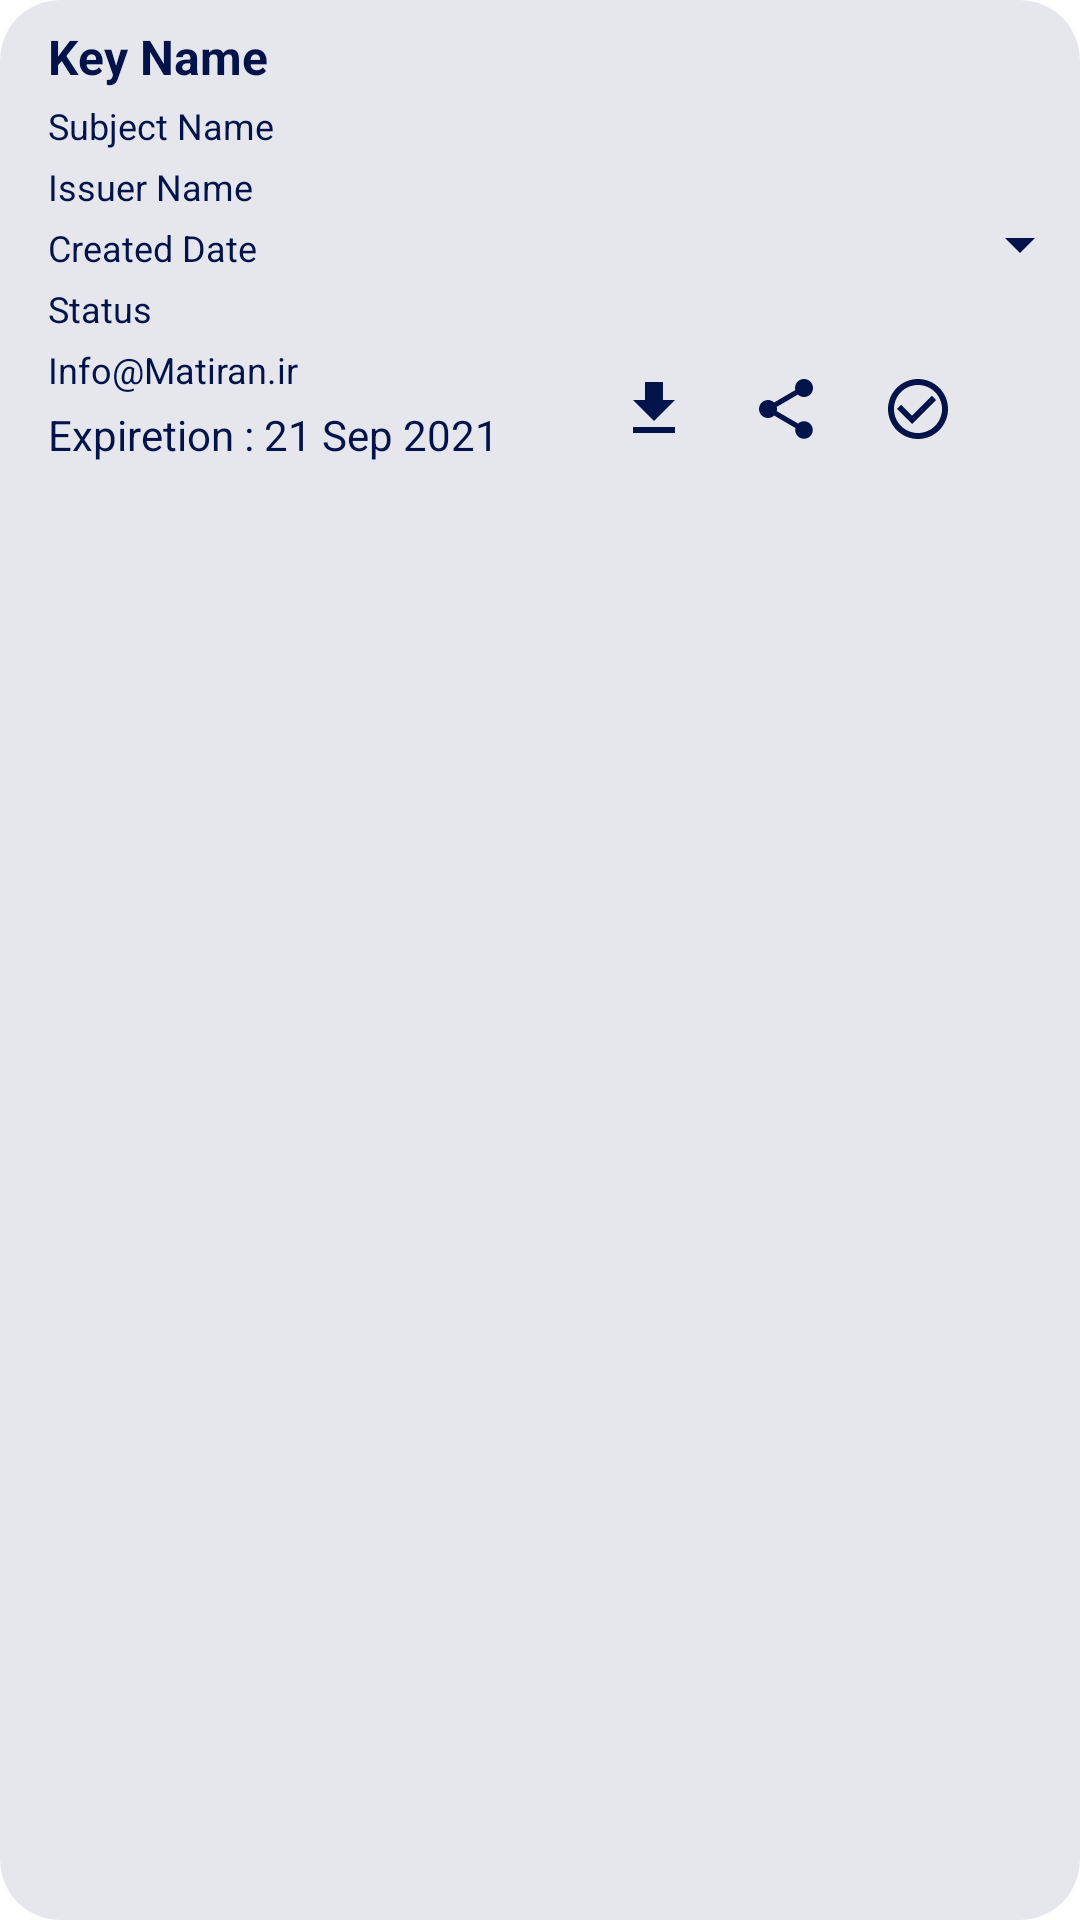

Screen size 1080w x 1920h. Icon name, then its box in pixels as (x1, y1, x2, y2):
arrow drop down: (1005, 238, 1035, 253)
check circle: (888, 379, 948, 439)
export: (633, 382, 675, 433)
share: (759, 379, 813, 439)
